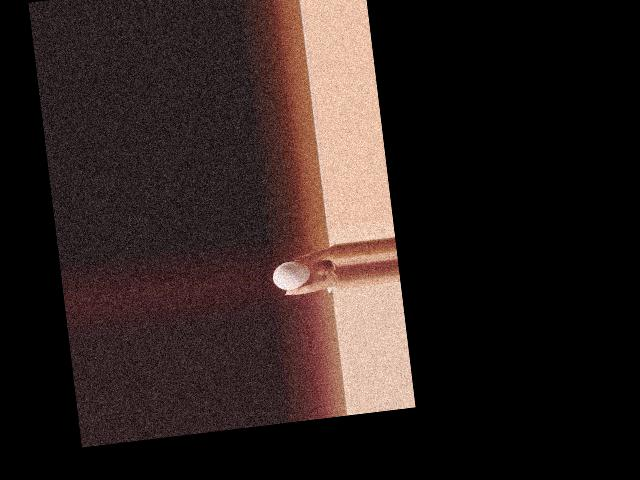egg: (271, 258, 312, 291)
